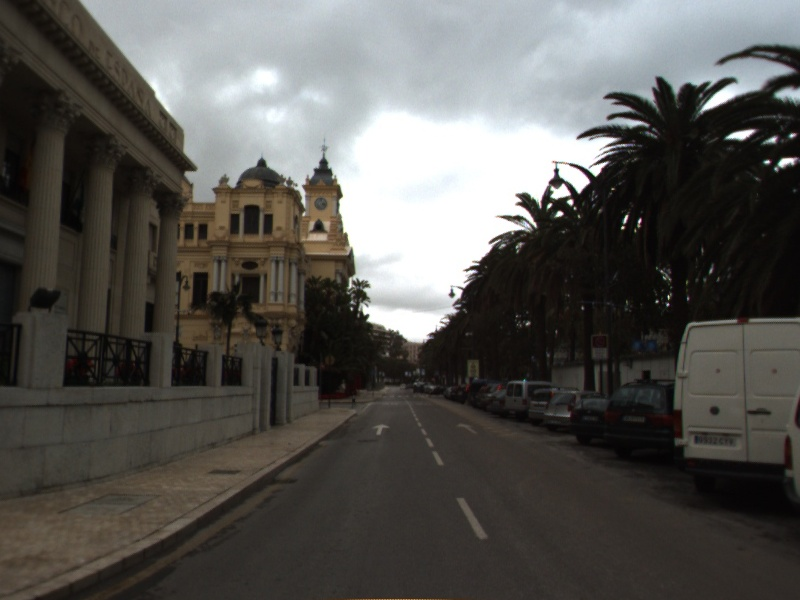STRAIGHT: (454, 420, 479, 436), (370, 422, 393, 437)
